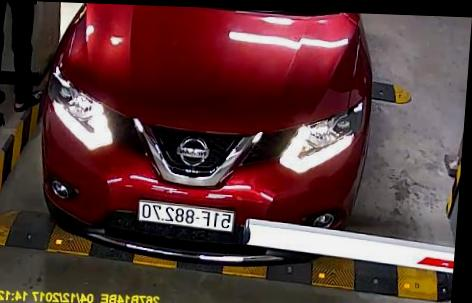License_Plate: (136, 202, 237, 228)
